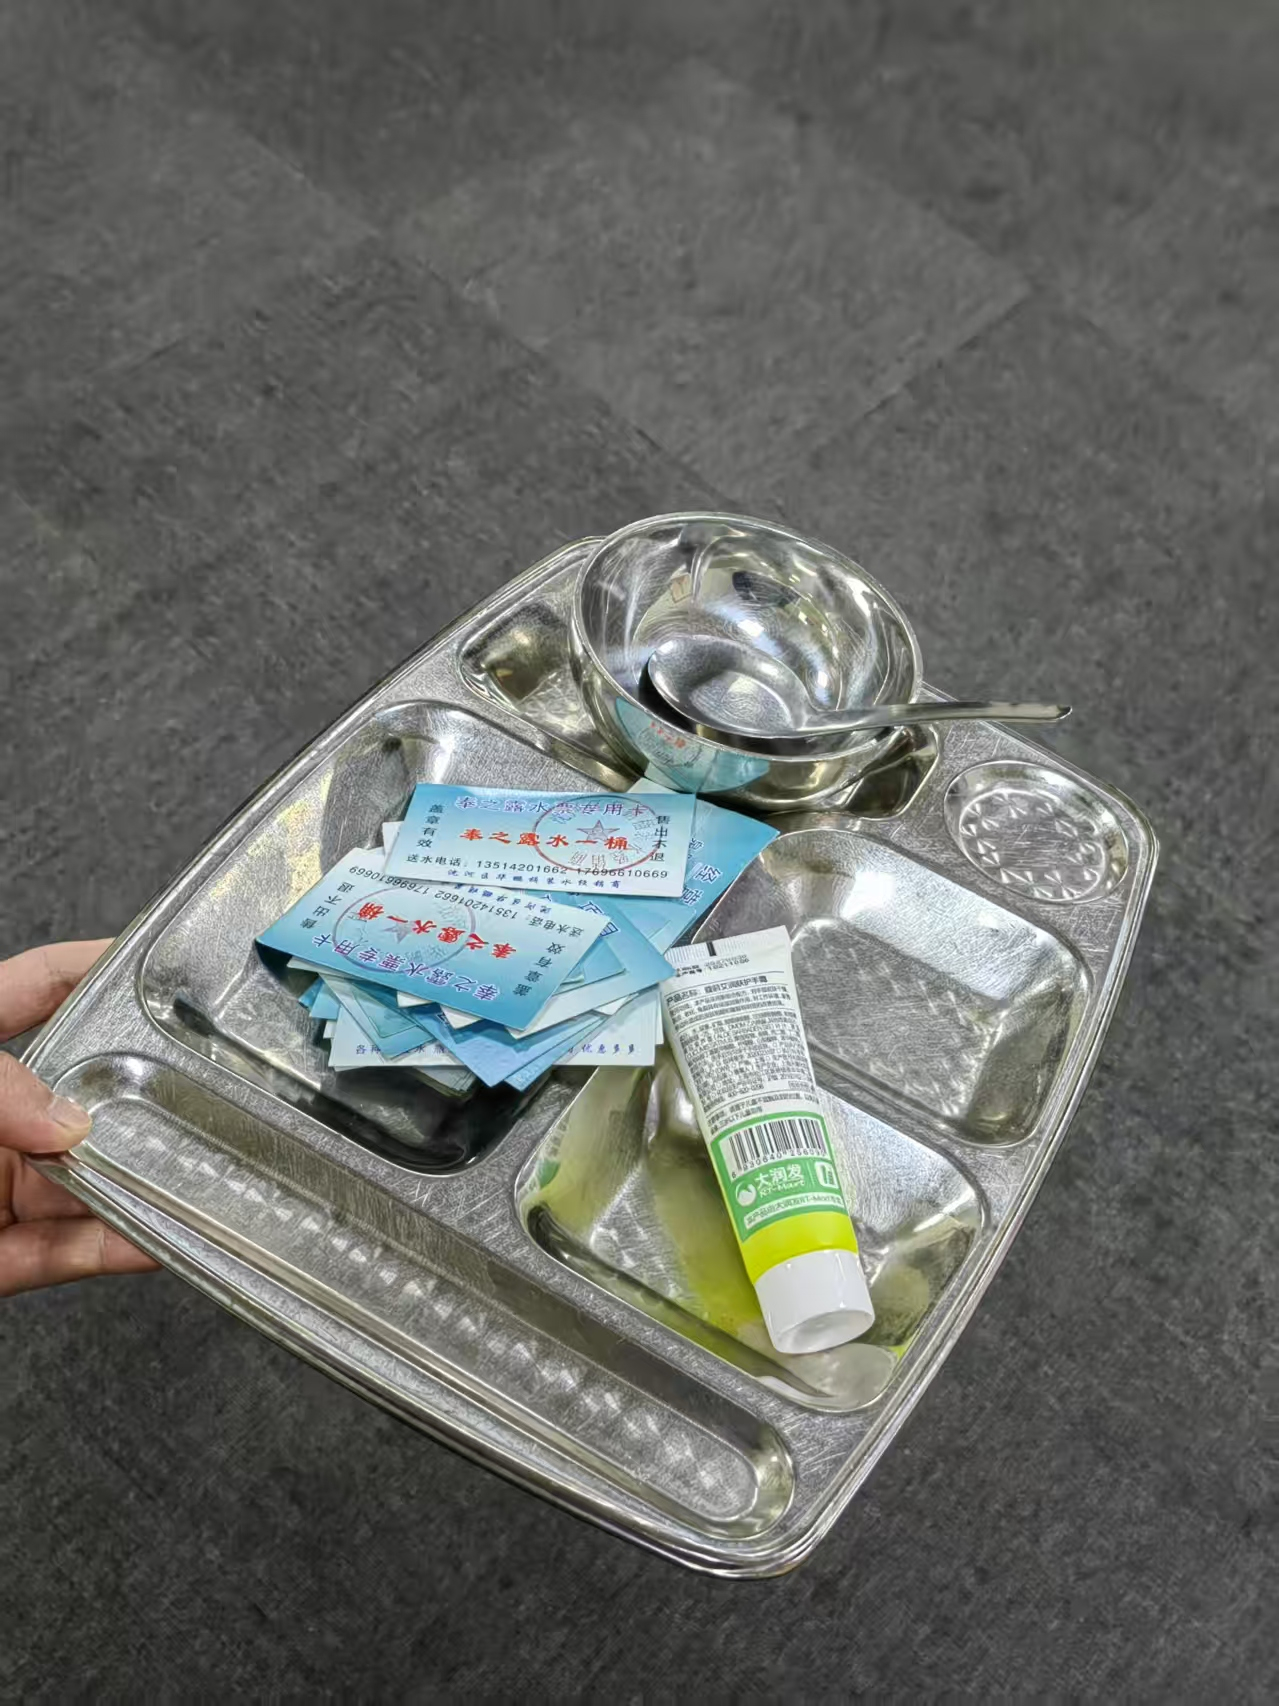moderate: (257, 780, 877, 1362)
plate: (8, 534, 1164, 1580)
